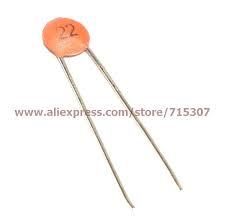ceramic capacitor: (23, 10, 136, 101)
